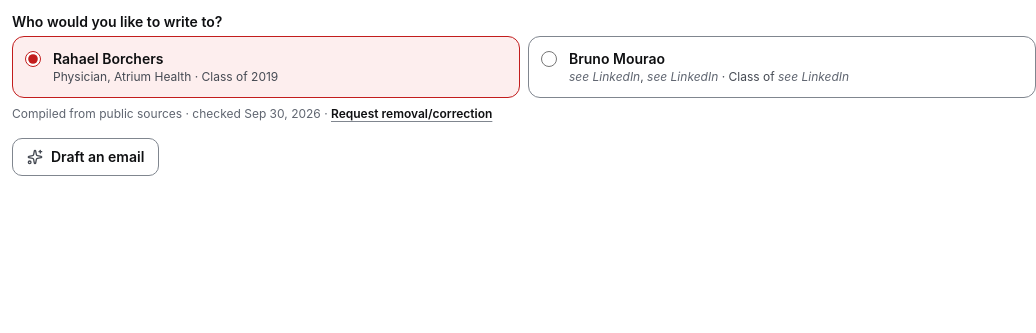
Test: AiColdEmailPanel › renders the refused result kind with its message
Click the button "Draft an email" at (86, 157), box [12,138,159,176]
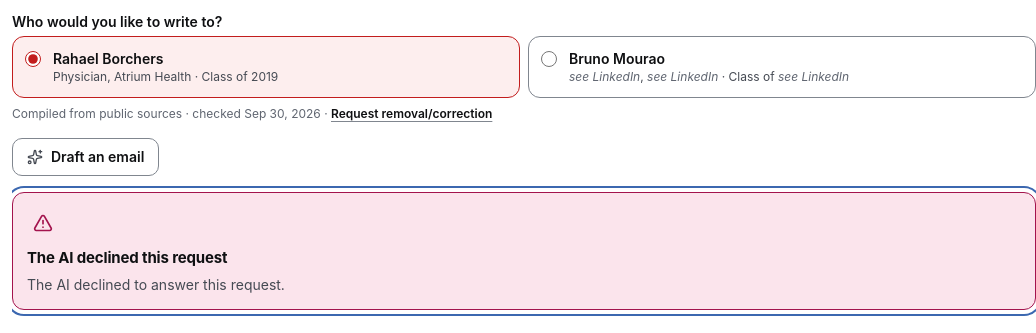
Expected: the element with test id "ai-email-failure" shows "The AI declined to answer this request.", [27,276,285,293]
